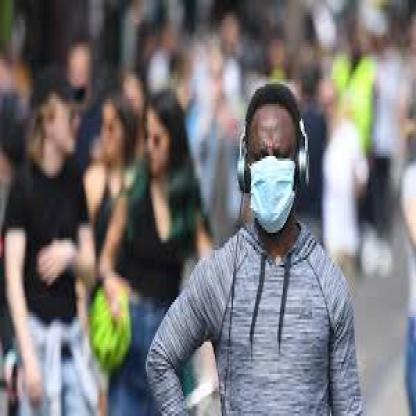Not_Wearing_Mask: (43, 87, 85, 168), (147, 112, 179, 178)
Wearing_Mask: (243, 104, 312, 255)
